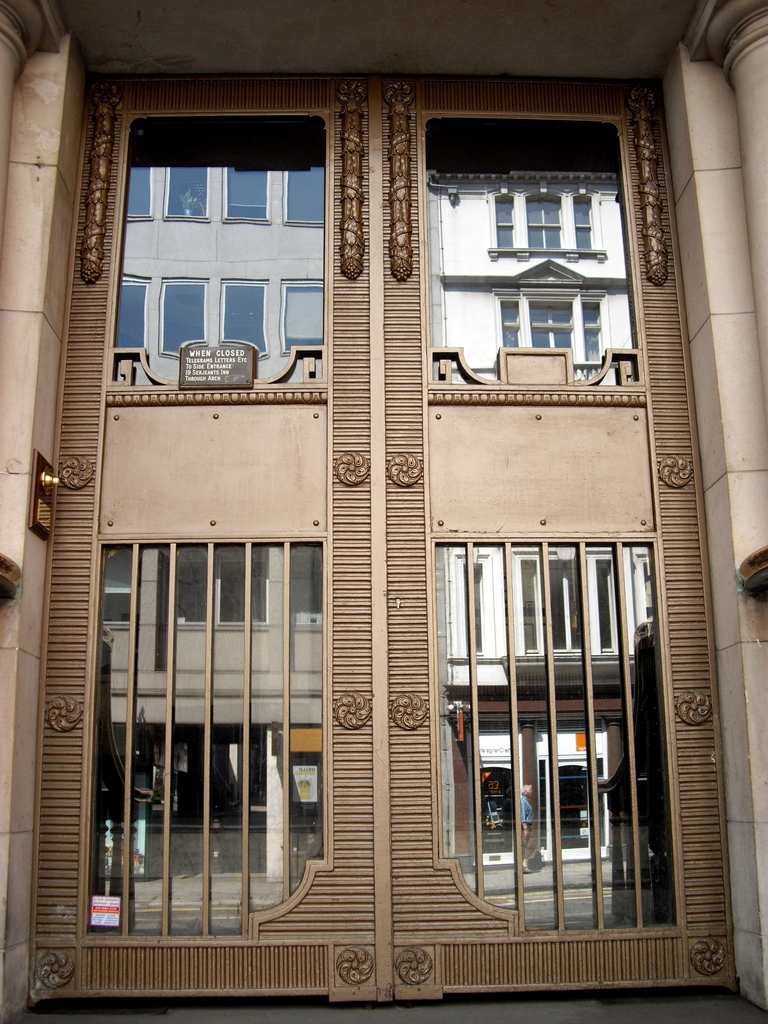door: (385, 95, 682, 997), (89, 125, 361, 984)
